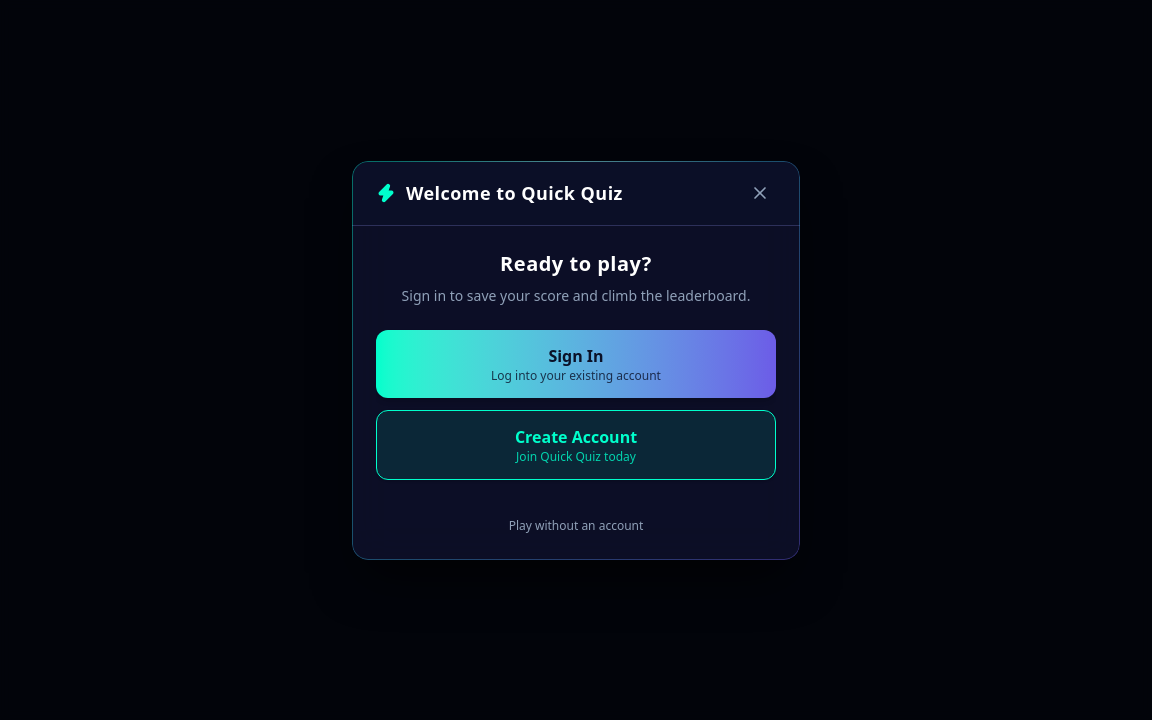
Test: AuthPopup › can navigate back to choice screen
Go to login
Step 1. Click the button "Sign In Log into your existing account" → click(576, 364), box [376, 330, 776, 398]
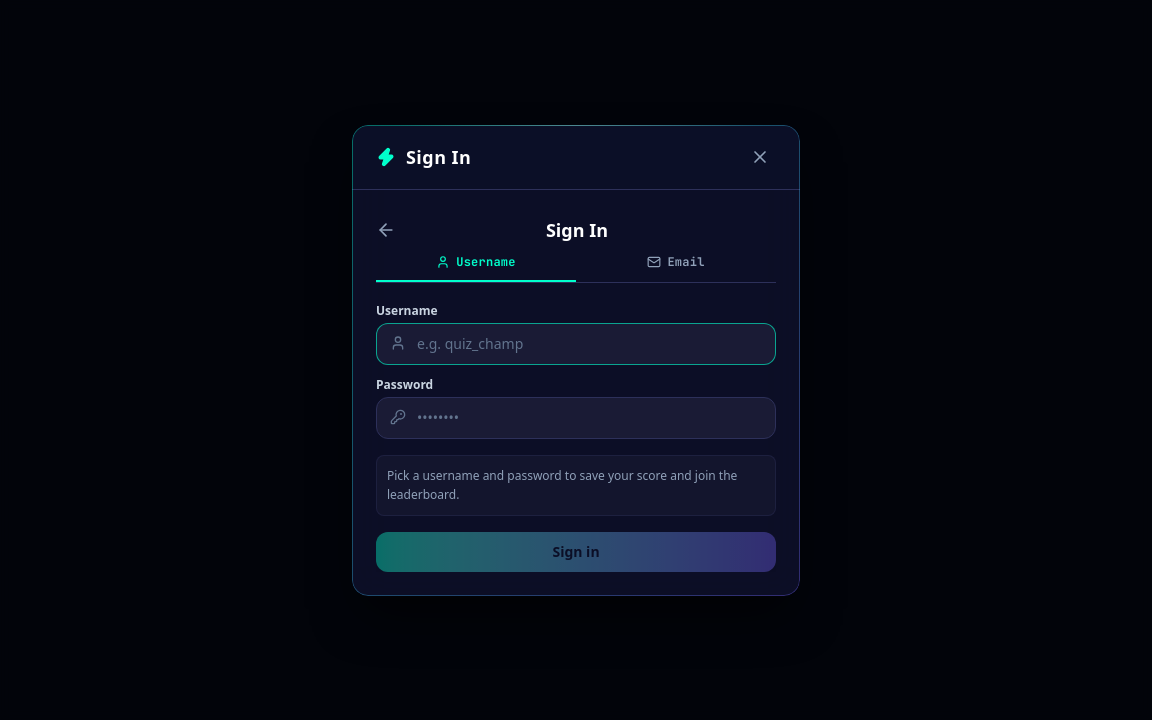
Wait for the back button
Step 2. Click the button named "Go back" → click(386, 230), box [370, 214, 402, 246]
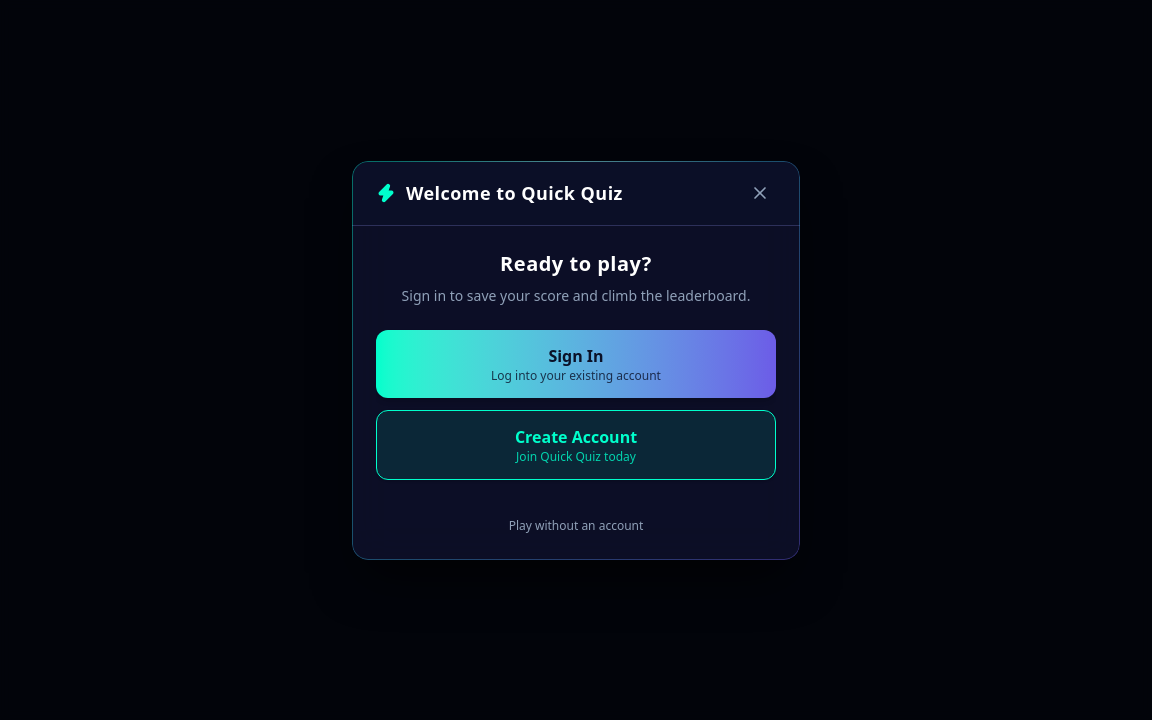
Expected: the heading "Ready to play?" is shown, [500, 250, 652, 276]
